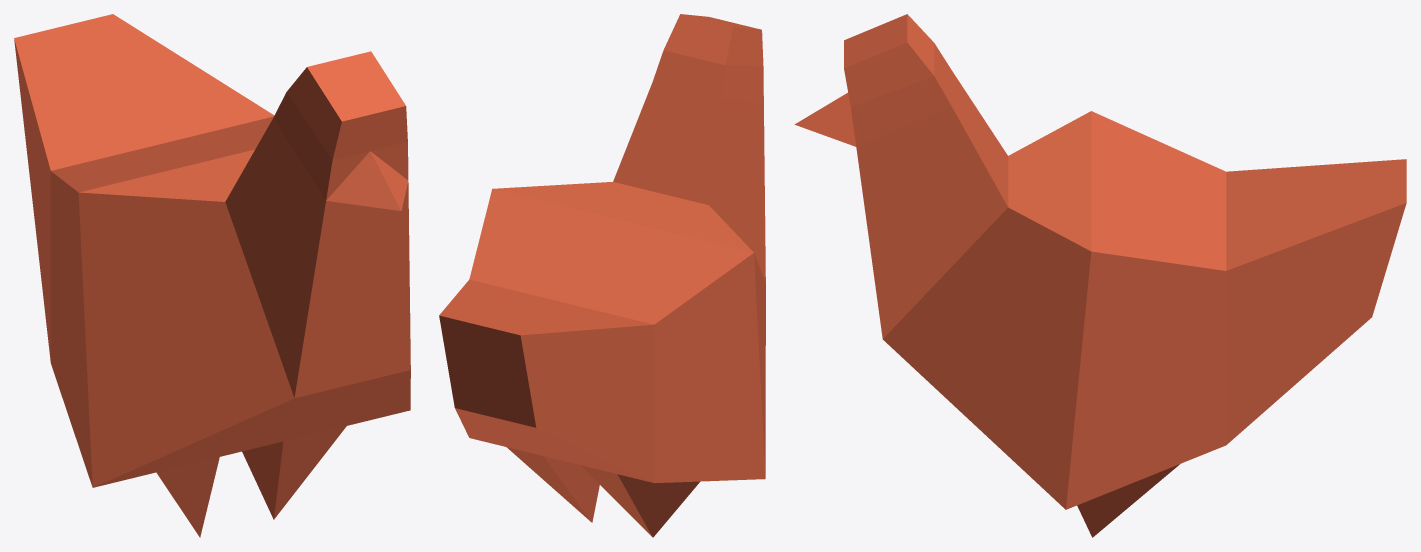
The model's file is environment_pigeon_v1.fbx.
3 renders of one model, left to right at view 1: azimuth 30°, elevation 25°; view 2: azimuth 150°, elevation 25°; view 3: azimuth 270°, elevation 25°, orthographic. The views are drawn at different scales.
Visible parts, largest first — view 1: Body; view 2: Body; view 3: Body.
Boxes of the visible parts, x1,y1,x2,y2 form: Body: (14, 14, 410, 537); Body: (439, 14, 765, 537); Body: (794, 14, 1406, 537).
Bounding box in the file's own units: 19.43 × 31.8 × 35.76.
